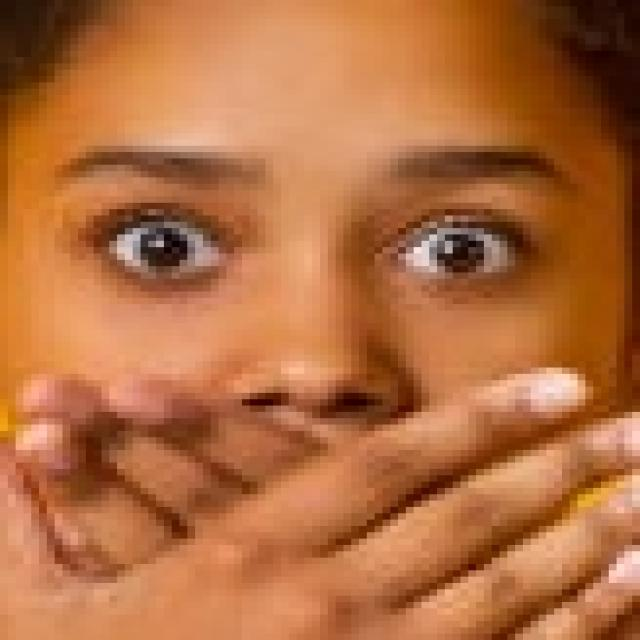Anxiety: (8, 0, 634, 634)
